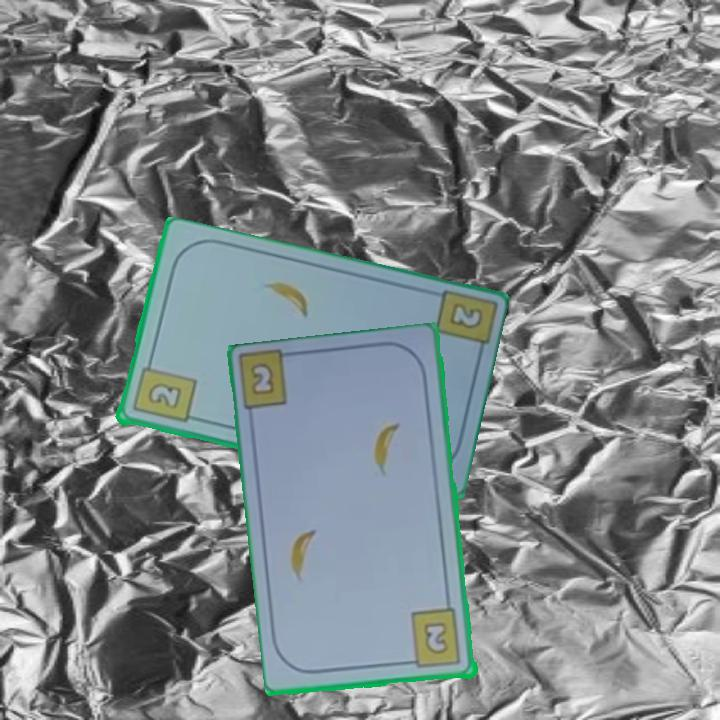2b: (129, 355, 198, 426), (403, 606, 465, 672), (445, 299, 483, 333), (250, 363, 275, 395)
